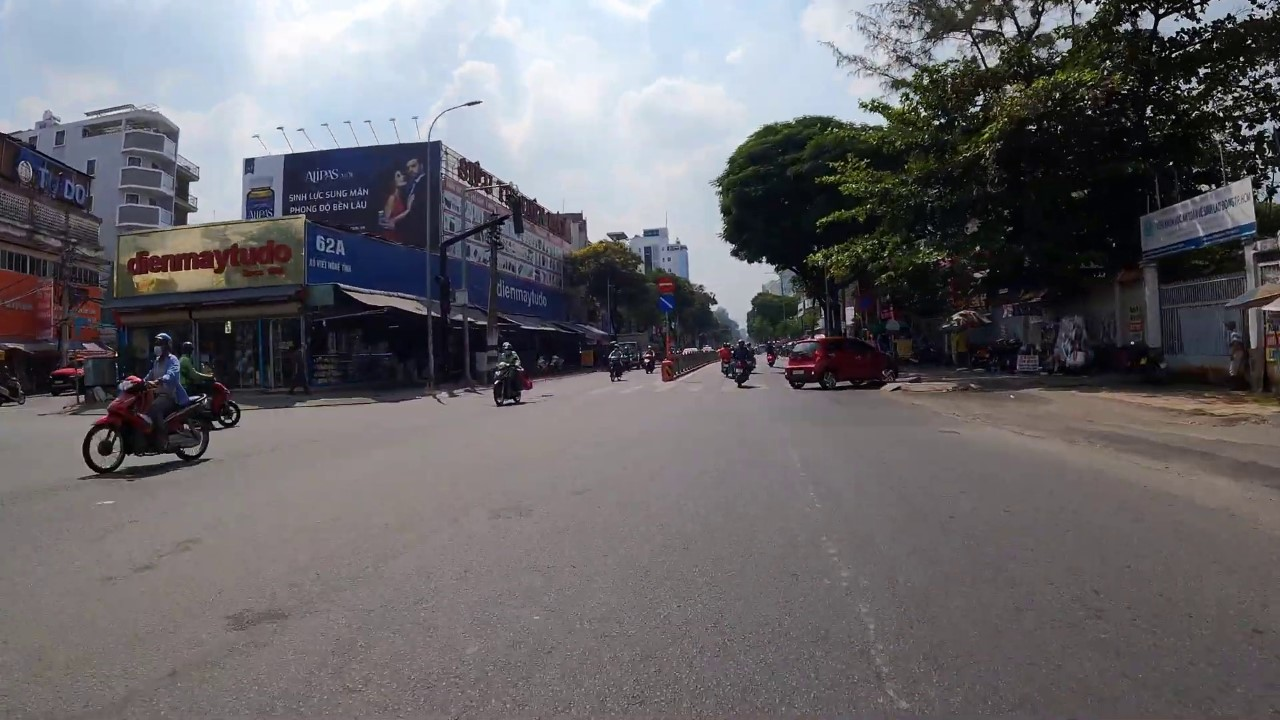cam_nguoc_chieu: (657, 276, 674, 294)
huong_phai_di_vong: (658, 295, 675, 312)
